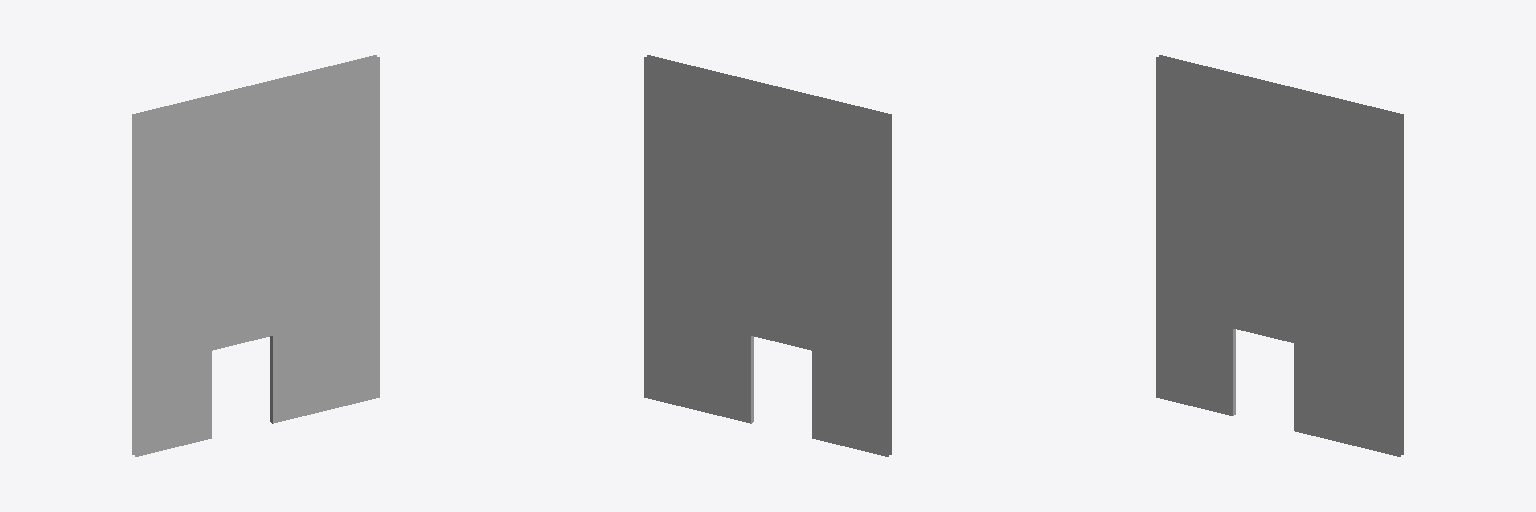
File: Door_to_Babushka_Shack.obj
The picture shows the model from 3 angles: view 1: azimuth 30°, elevation 25°; view 2: azimuth 150°, elevation 25°; view 3: azimuth 330°, elevation 25°; orthographic projection.
Parts seen in each view (by area): view 1: Door_to_Babushka_Shack; view 2: Door_to_Babushka_Shack; view 3: Door_to_Babushka_Shack.
Part boxes in pixels (x1,y1,x2,y2): Door_to_Babushka_Shack: (132, 55, 379, 456); Door_to_Babushka_Shack: (644, 55, 891, 456); Door_to_Babushka_Shack: (1156, 55, 1403, 456).
Size of the model in its own units: 23.4 by 31 by 0.5.